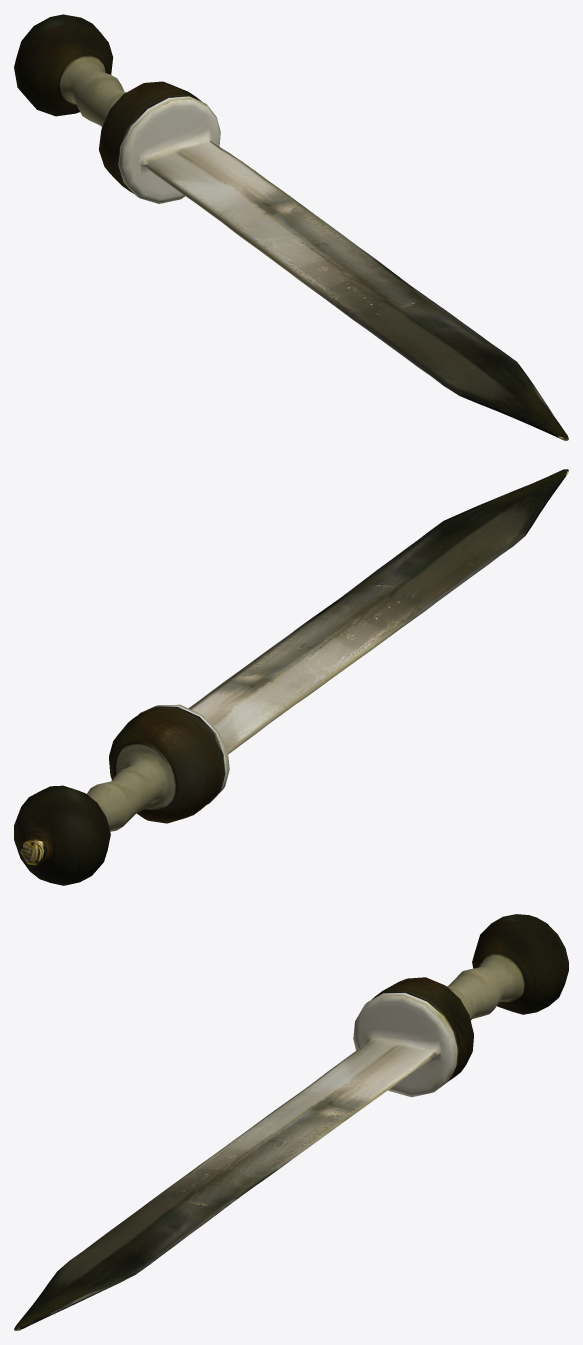
Rendered from sword1.glb.
3 views of the same model, one above another, from view 1: azimuth 30°, elevation 25°; view 2: azimuth 150°, elevation 25°; view 3: azimuth 330°, elevation 25° (orthographic).
Parts seen in each view (by area): view 1: tripo_node_a8d80c73.001; view 2: tripo_node_a8d80c73.001; view 3: tripo_node_a8d80c73.001.
Part boxes in pixels (x1,y1,x2,y2): tripo_node_a8d80c73.001: (14, 14, 568, 440); tripo_node_a8d80c73.001: (14, 469, 568, 885); tripo_node_a8d80c73.001: (14, 914, 568, 1330).
Size of the model in its own units: 0.1139 by 0.1106 by 1.04.
Materials: 1 (1 with a texture image).
